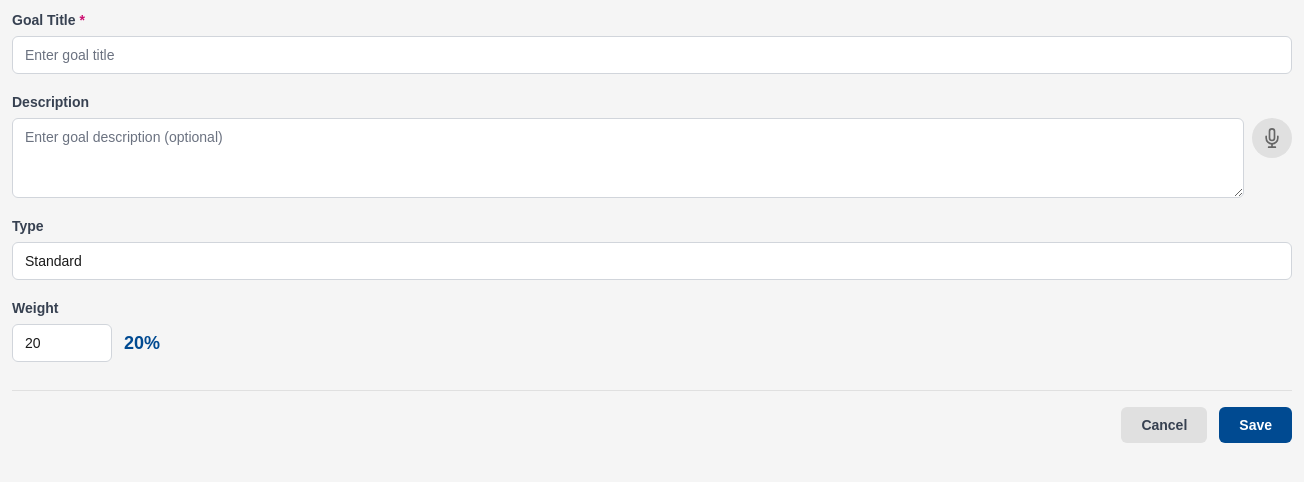
Scenario: GoalForm › validation › should show error when weight exceeds 100
Type "Test Goal" into the field named "title" at (652, 55), box 12,36 -> 1292,74
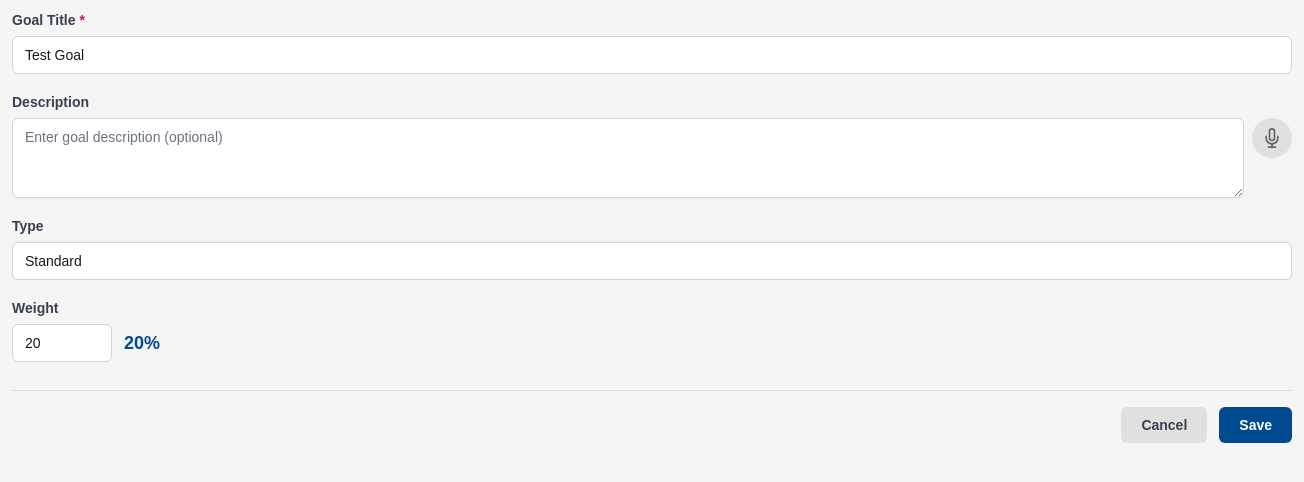
Replace the text in the number field named "weight" with "105" at (62, 343), box 12,324 -> 112,362
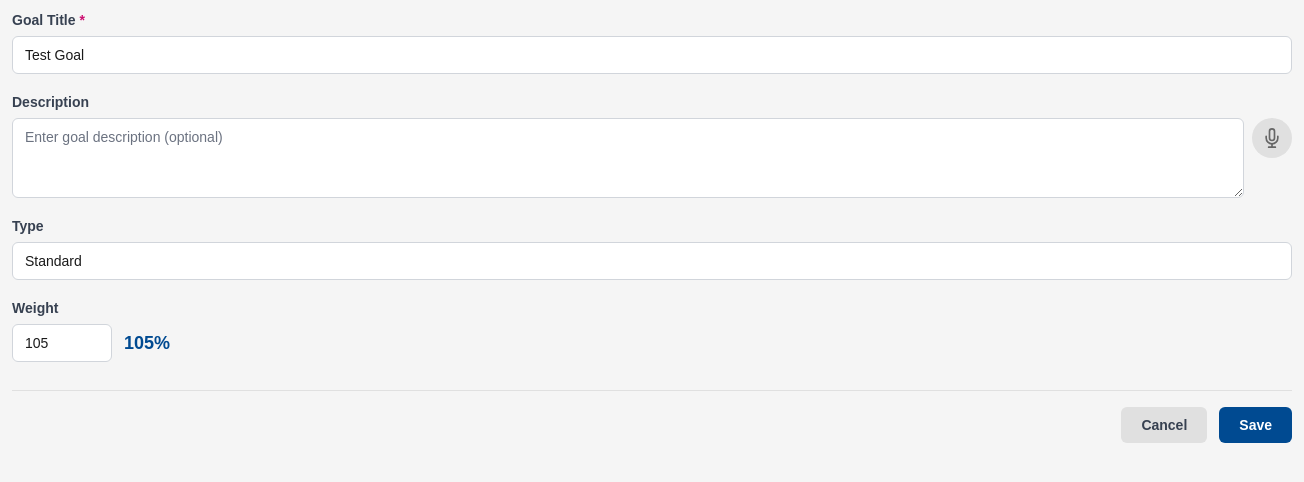
Submit the form
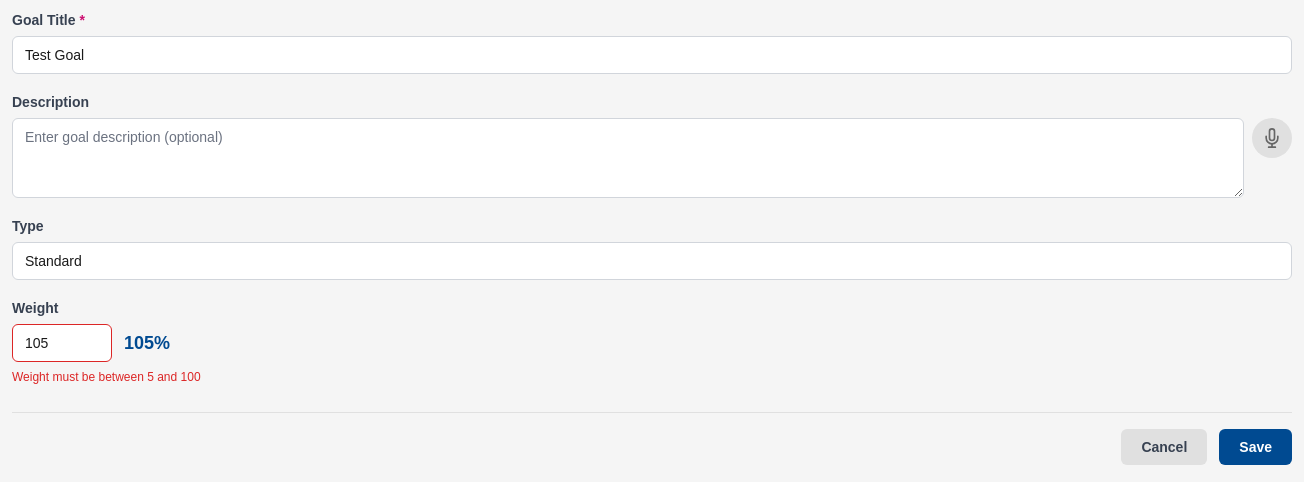
Check: the text "Weight must be between 5 and 100" is shown, box 12,370 -> 201,384
